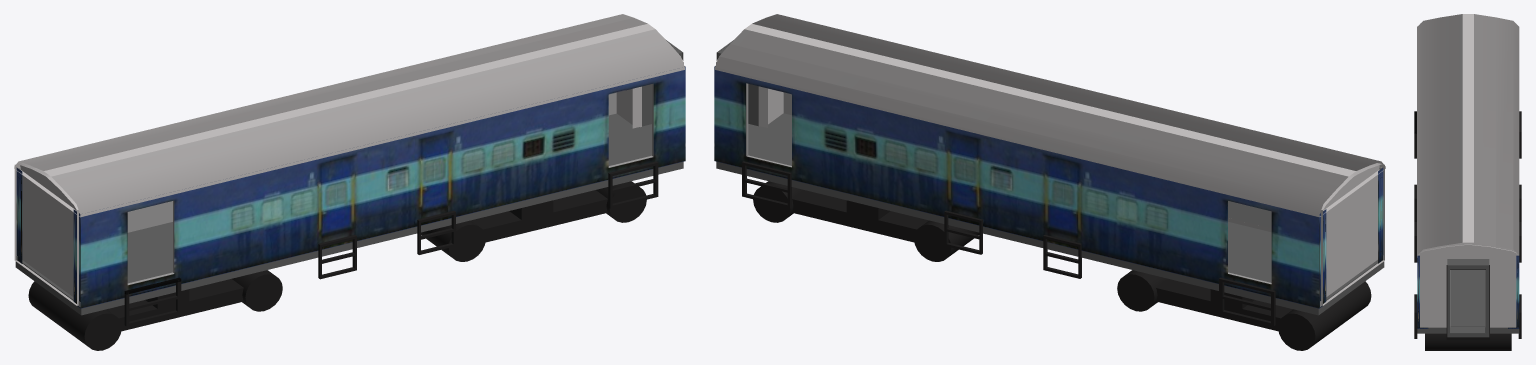
The model's file is icf_coach.glb.
The picture shows the model from 3 angles, left to right: view 1: azimuth 30°, elevation 25°; view 2: azimuth 150°, elevation 25°; view 3: azimuth 270°, elevation 25°; orthographic projection. The views are drawn at different scales.
Parts seen in each view (by area): view 1: Object_19, Object_4, Object_35, Object_14, Object_36, Object_15, Object_18; view 2: Object_18, Object_4, Object_35, Object_14, Object_36, Object_15, Object_19; view 3: Object_4, Object_36, Object_14, Object_35, Object_18, Object_19.
Part boxes in pixels (left/top/right/bottom): Object_19: left=73, top=66, right=685, bottom=308; Object_4: left=14, top=14, right=684, bottom=217; Object_35: left=28, top=53, right=682, bottom=350; Object_14: left=15, top=39, right=683, bottom=315; Object_36: left=14, top=59, right=683, bottom=305; Object_15: left=16, top=83, right=653, bottom=306; Object_18: left=16, top=167, right=22, bottom=263; Object_18: left=714, top=66, right=1326, bottom=308; Object_4: left=715, top=14, right=1385, bottom=217; Object_35: left=717, top=53, right=1371, bottom=350; Object_14: left=716, top=40, right=1384, bottom=315; Object_36: left=716, top=59, right=1384, bottom=305; Object_15: left=746, top=83, right=1383, bottom=306; Object_19: left=1378, top=168, right=1383, bottom=263; Object_4: left=1417, top=14, right=1519, bottom=257; Object_36: left=1420, top=23, right=1516, bottom=327; Object_14: left=1417, top=259, right=1519, bottom=337; Object_35: left=1414, top=111, right=1521, bottom=350; Object_18: left=1508, top=255, right=1519, bottom=328; Object_19: left=1417, top=255, right=1428, bottom=328.
Size of the model in its own units: 30.13 by 7.52 by 5.79.
Materials: 11 (2 with a texture image).
